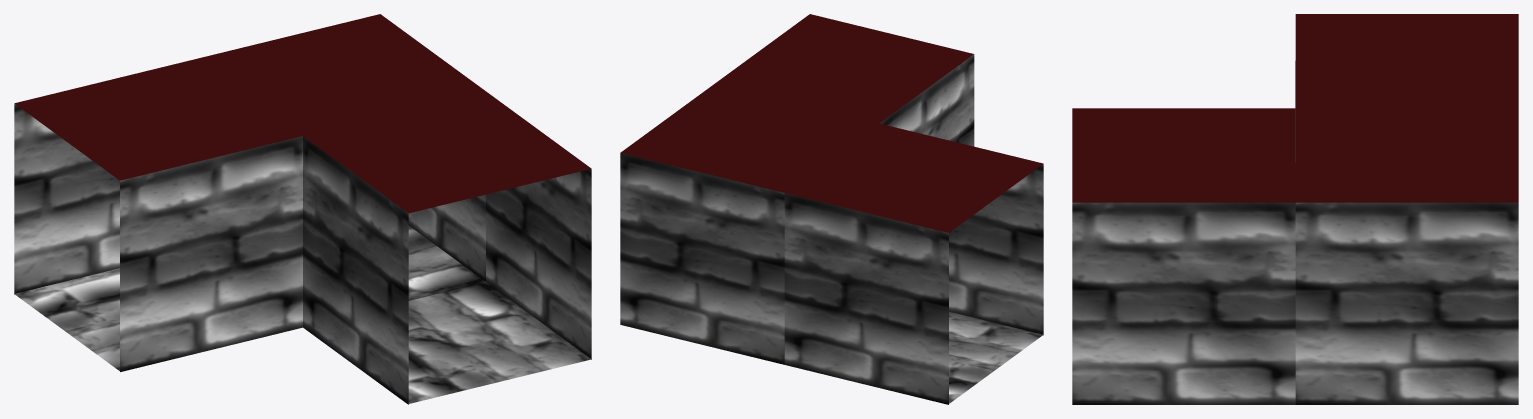
File: zamek_labirynt_L1.fbx
3 renders of one model, left to right at view 1: azimuth 30°, elevation 25°; view 2: azimuth 150°, elevation 25°; view 3: azimuth 270°, elevation 25°, orthographic. The views are drawn at different scales.
Visible parts, largest first — view 1: Plane.098; view 2: Plane.098; view 3: Plane.098.
Boxes of the visible parts, x1=… form: Plane.098: x1=14, y1=14, x2=591, y2=404; Plane.098: x1=620, y1=14, x2=1043, y2=404; Plane.098: x1=1072, y1=14, x2=1518, y2=404.
Bounding box in the file's own units: 800 × 400 × 800.
Materials: 2 (1 with a texture image).
